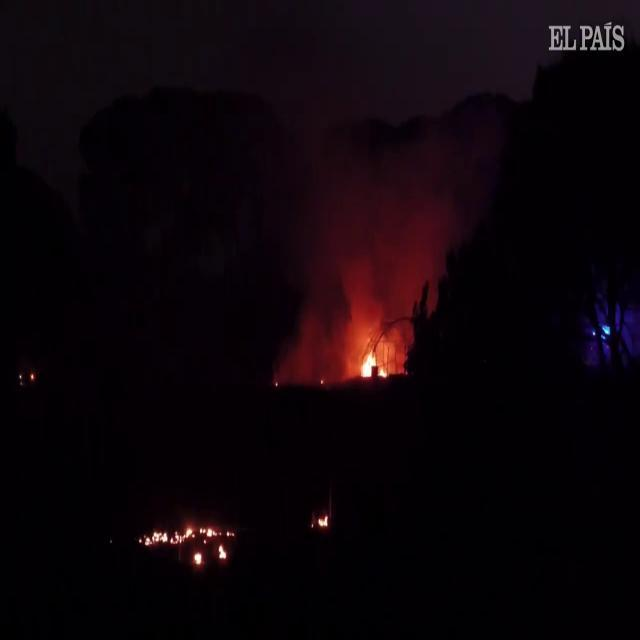Fire: (352, 329, 391, 387)
Smoke: (307, 114, 467, 354)
